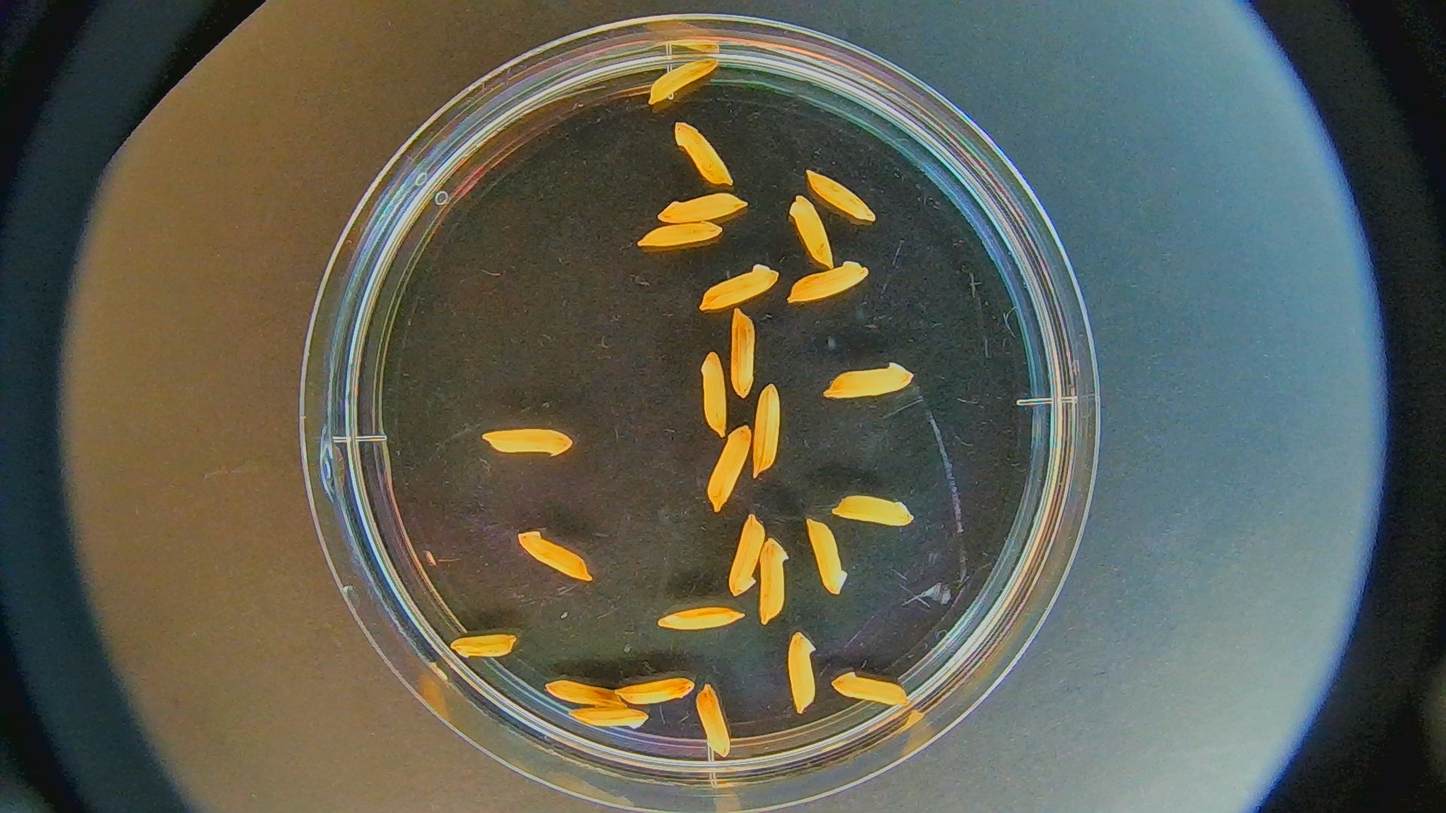no: (509, 524, 598, 589), (818, 358, 921, 411), (800, 515, 856, 601), (805, 161, 880, 224), (669, 117, 736, 187), (697, 262, 779, 315), (786, 257, 870, 307), (691, 678, 738, 766), (827, 664, 912, 710), (831, 489, 921, 532), (646, 56, 721, 107), (706, 425, 749, 513), (539, 671, 633, 711), (778, 626, 819, 717), (787, 190, 834, 268), (561, 704, 652, 744), (749, 379, 784, 481), (619, 665, 697, 709), (480, 426, 578, 461), (654, 190, 752, 224), (654, 601, 749, 635), (442, 626, 522, 666), (636, 219, 727, 254), (759, 532, 792, 626), (728, 512, 761, 598), (728, 306, 757, 402), (700, 349, 729, 443)
